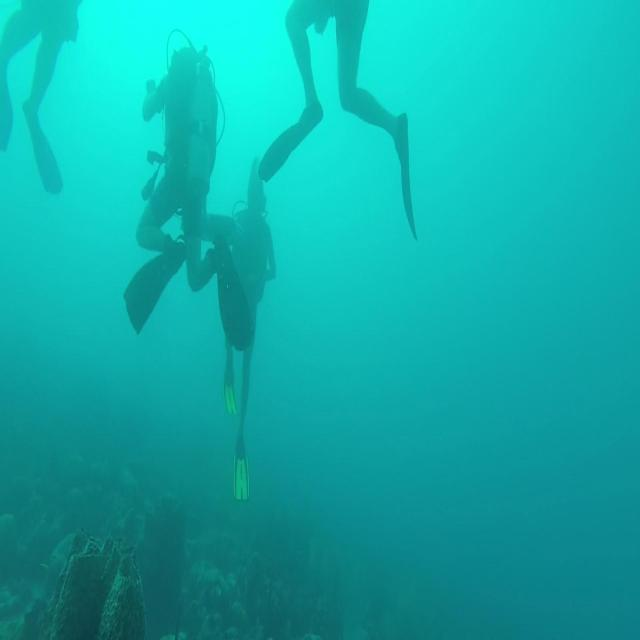human: (257, 0, 418, 241), (181, 156, 277, 501), (123, 29, 224, 335), (0, 0, 82, 195)
